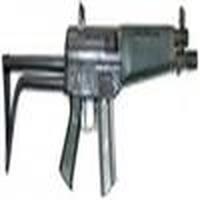gun: (1, 23, 199, 176)
